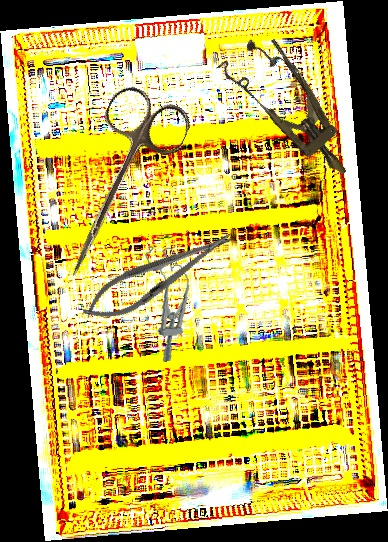Hook Surgical: (270, 38, 333, 129)
Iris Scissors: (39, 80, 196, 295)
Needle Holder: (75, 219, 242, 333)
Speculum: (215, 28, 369, 193), (144, 243, 196, 363)
